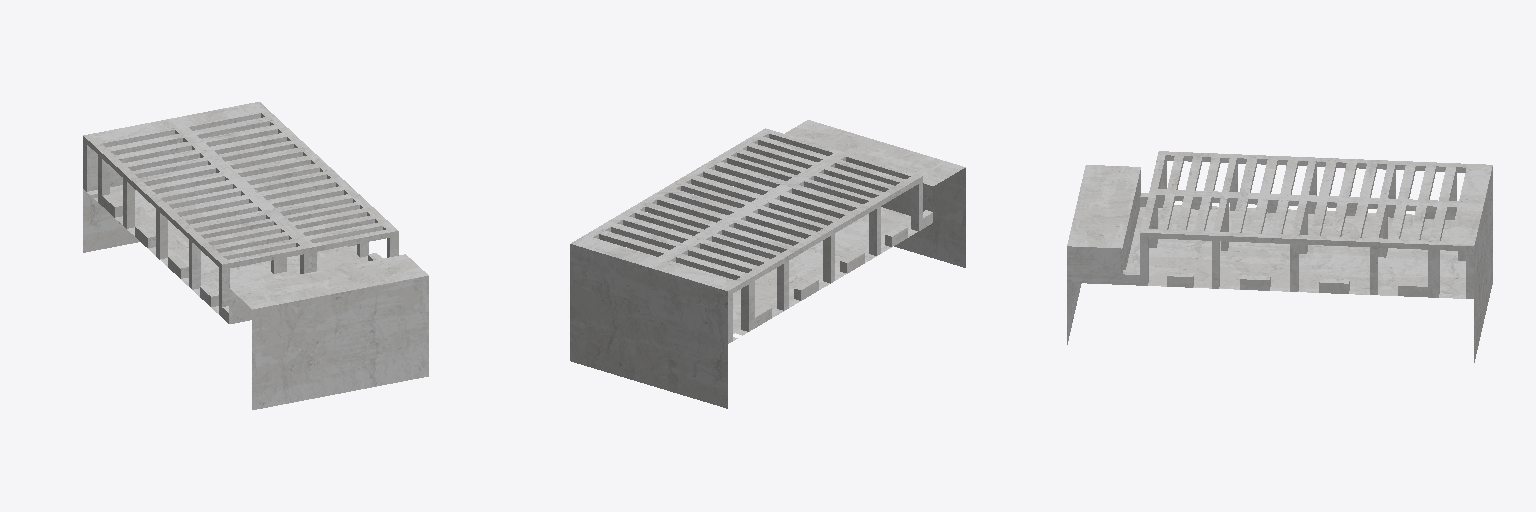
3 renders of one model, left to right at view 1: azimuth 30°, elevation 25°; view 2: azimuth 150°, elevation 25°; view 3: azimuth 270°, elevation 25°, orthographic.
Visible parts, largest first — view 1: DianaTerrace_DianaTerraceMesh; view 2: DianaTerrace_DianaTerraceMesh; view 3: DianaTerrace_DianaTerraceMesh.
Boxes of the visible parts, <box> form: DianaTerrace_DianaTerraceMesh: <box>83,102,428,409</box>; DianaTerrace_DianaTerraceMesh: <box>570,120,965,408</box>; DianaTerrace_DianaTerraceMesh: <box>1067,151,1492,362</box>.
Bounding box in the file's own units: 19.93 × 11.11 × 36.51.
Materials: 1 (1 with a texture image).